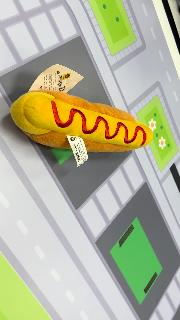hotdog: (10, 90, 154, 154)
